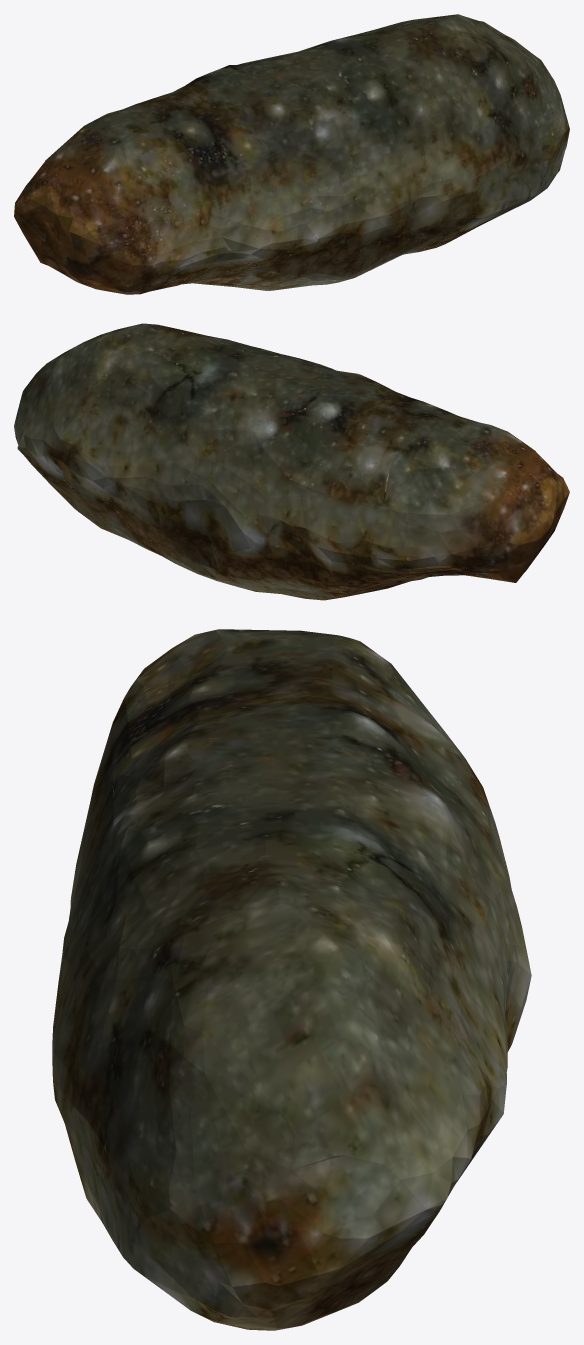
File: cucumber.glb
The picture shows the model from 3 angles, top to bottom: view 1: azimuth 30°, elevation 25°; view 2: azimuth 150°, elevation 25°; view 3: azimuth 270°, elevation 25°; orthographic projection. The views are drawn at different scales.
Parts seen in each view (by area): view 1: cucumber_near; view 2: cucumber_near; view 3: cucumber_near.
Part boxes in pixels (<box>): cucumber_near: <box>14,14,569,294</box>; cucumber_near: <box>14,323,569,600</box>; cucumber_near: <box>52,629,531,1330</box>.
Bounding box in the file's own units: 0.2161 × 0.0885 × 0.0845.
Materials: 1 (1 with a texture image).
